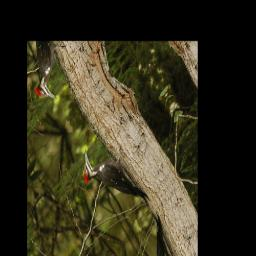Woodpecker: (74, 118, 154, 243)
